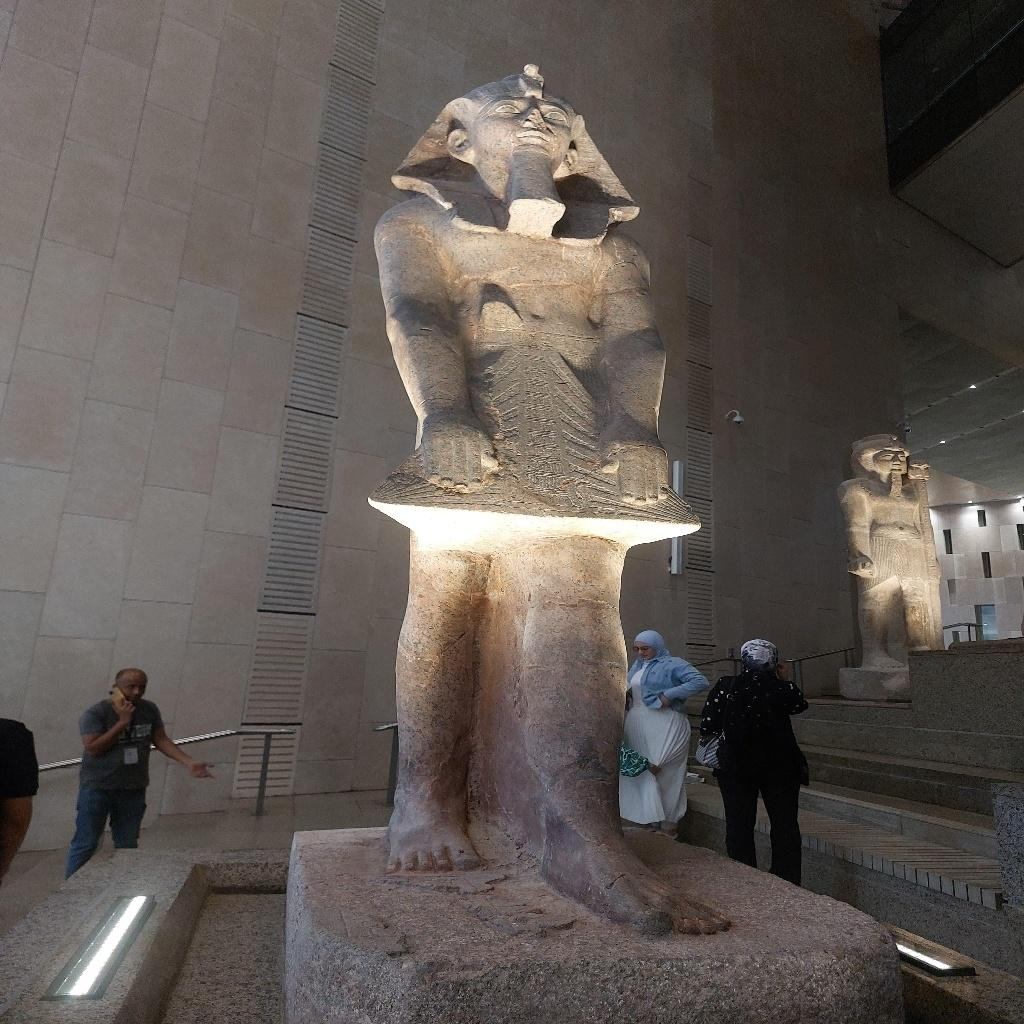Colossal Statue of Queen Hatshepsut: (362, 60, 736, 940)
